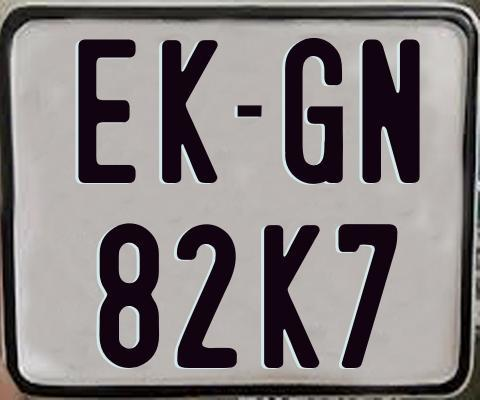2: (176, 224, 240, 374)
7: (336, 224, 398, 370)
8: (97, 221, 158, 368)
E: (77, 36, 137, 186)
G: (282, 37, 341, 186)
K: (263, 223, 325, 369), (159, 40, 218, 184)
N: (359, 37, 418, 182)
